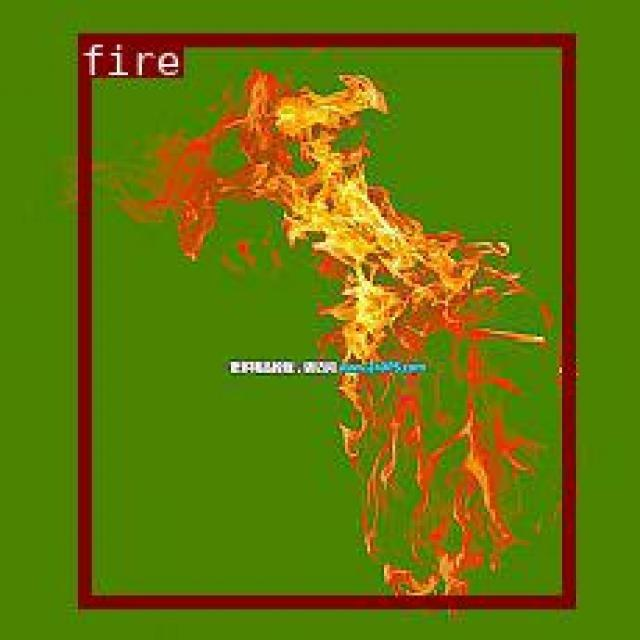fire: (76, 33, 572, 605)
